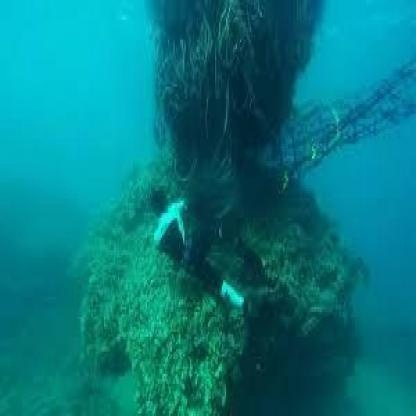net: (260, 44, 416, 212)
